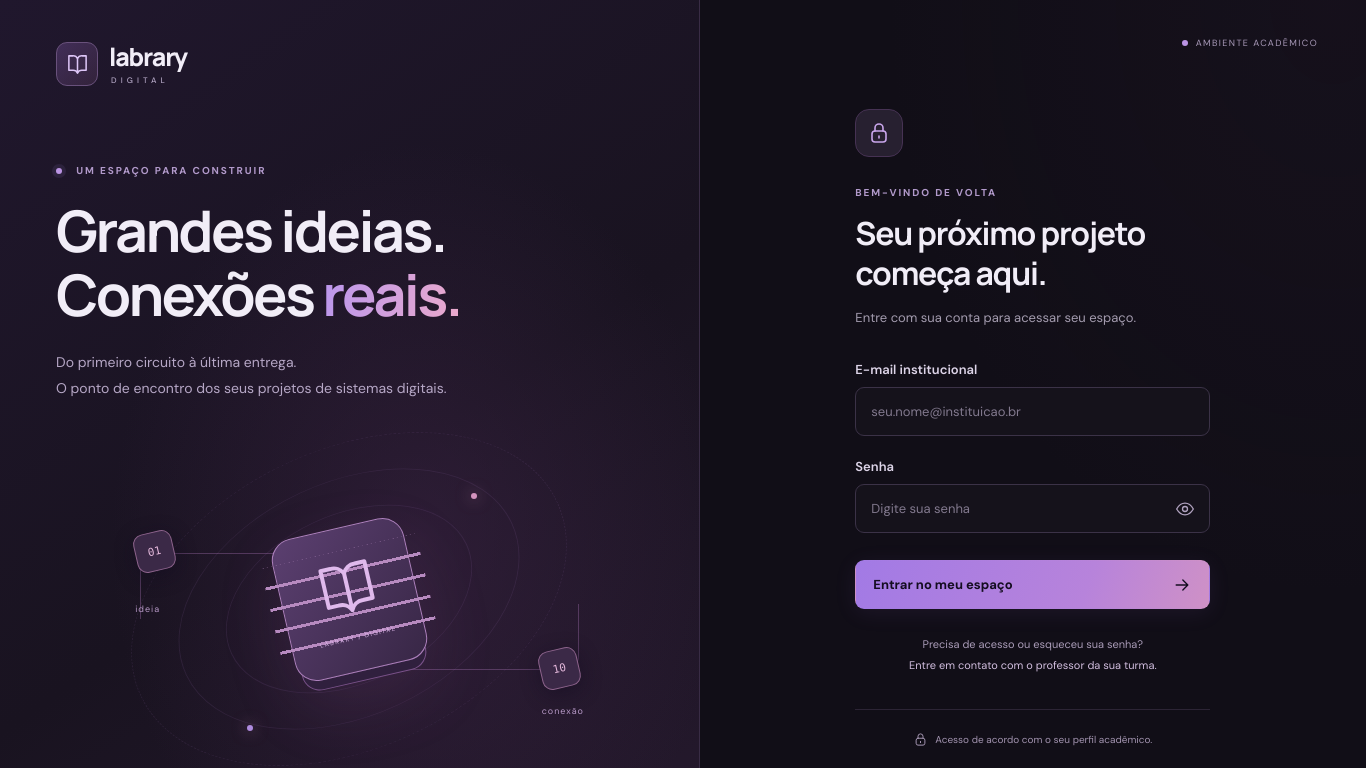
Scenario: HU01: interface › faz login, alterna visibilidade da senha e sai da conta
This screenshot has width=1366, height=768.
In the field labelled "E-mail institucional": (1033, 412) [855, 387, 1210, 436], type "aluno@labrary.local"
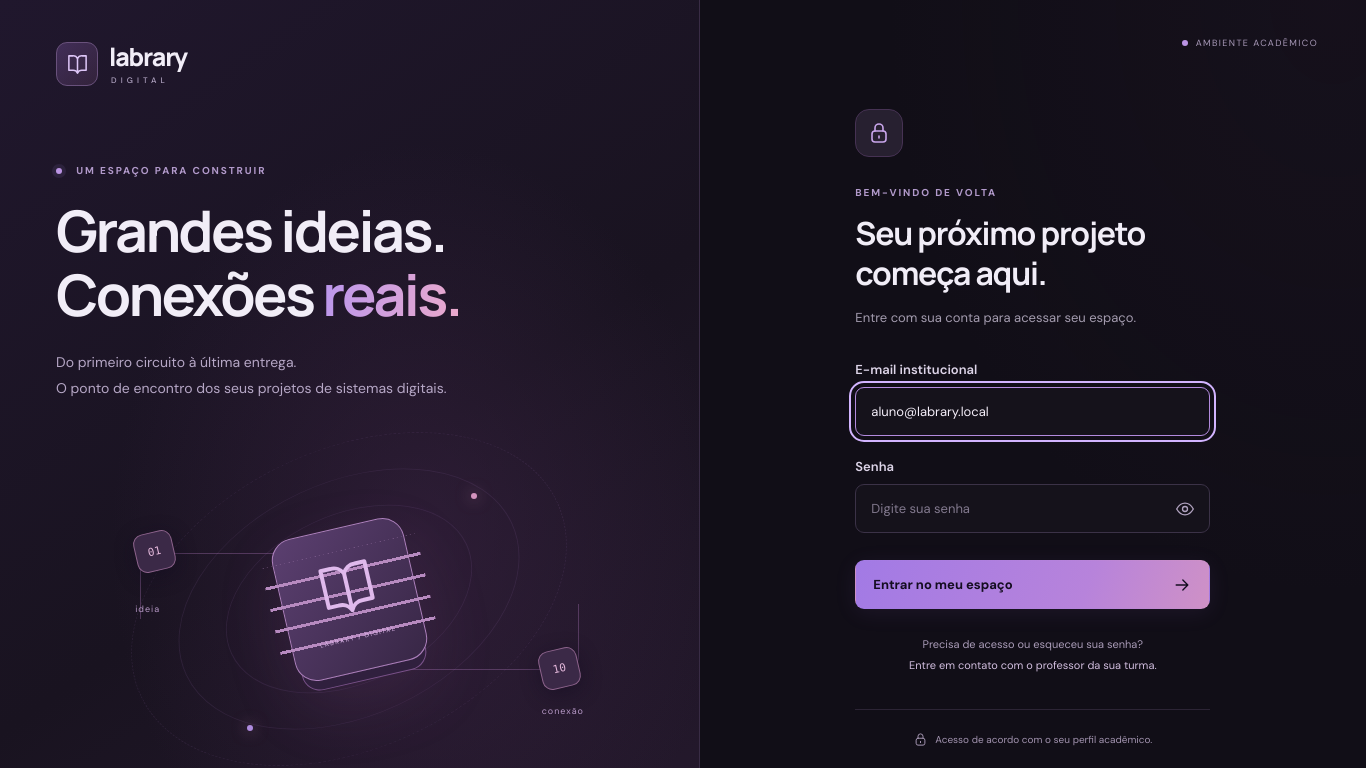
In the password field labelled "Senha": (1033, 509) [855, 484, 1210, 533], type "Senha123!"
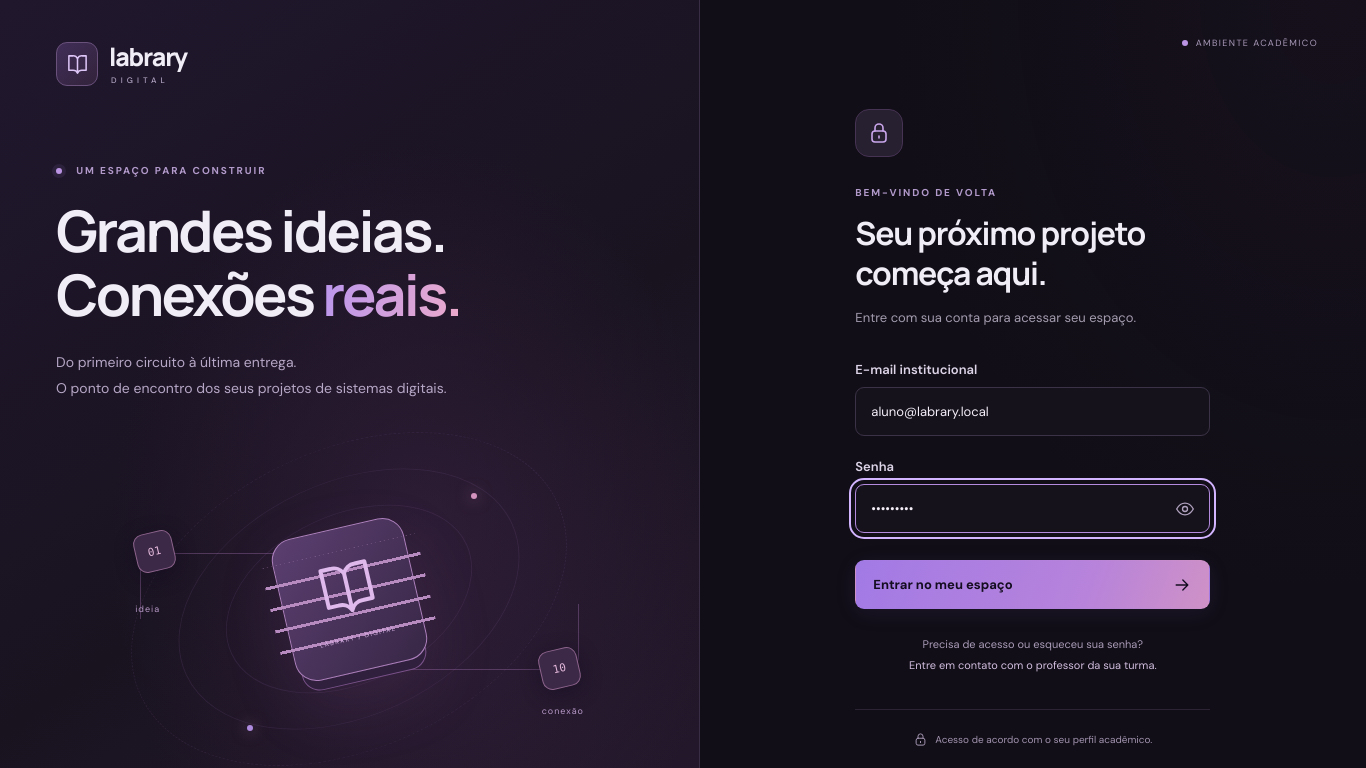
Click the button named "Mostrar senha": (1185, 509) [1163, 486, 1207, 532]
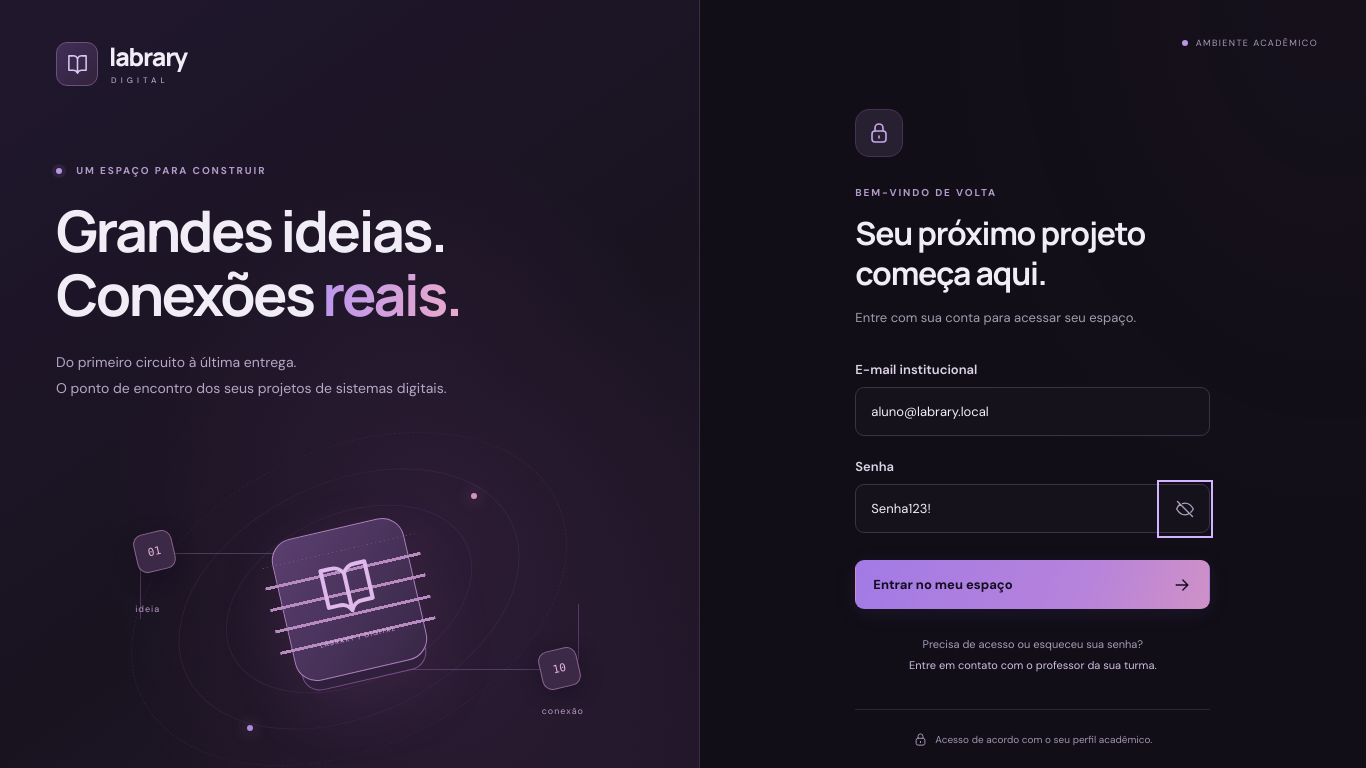
Click the button named "Ocultar senha": (1185, 509) [1163, 486, 1207, 532]
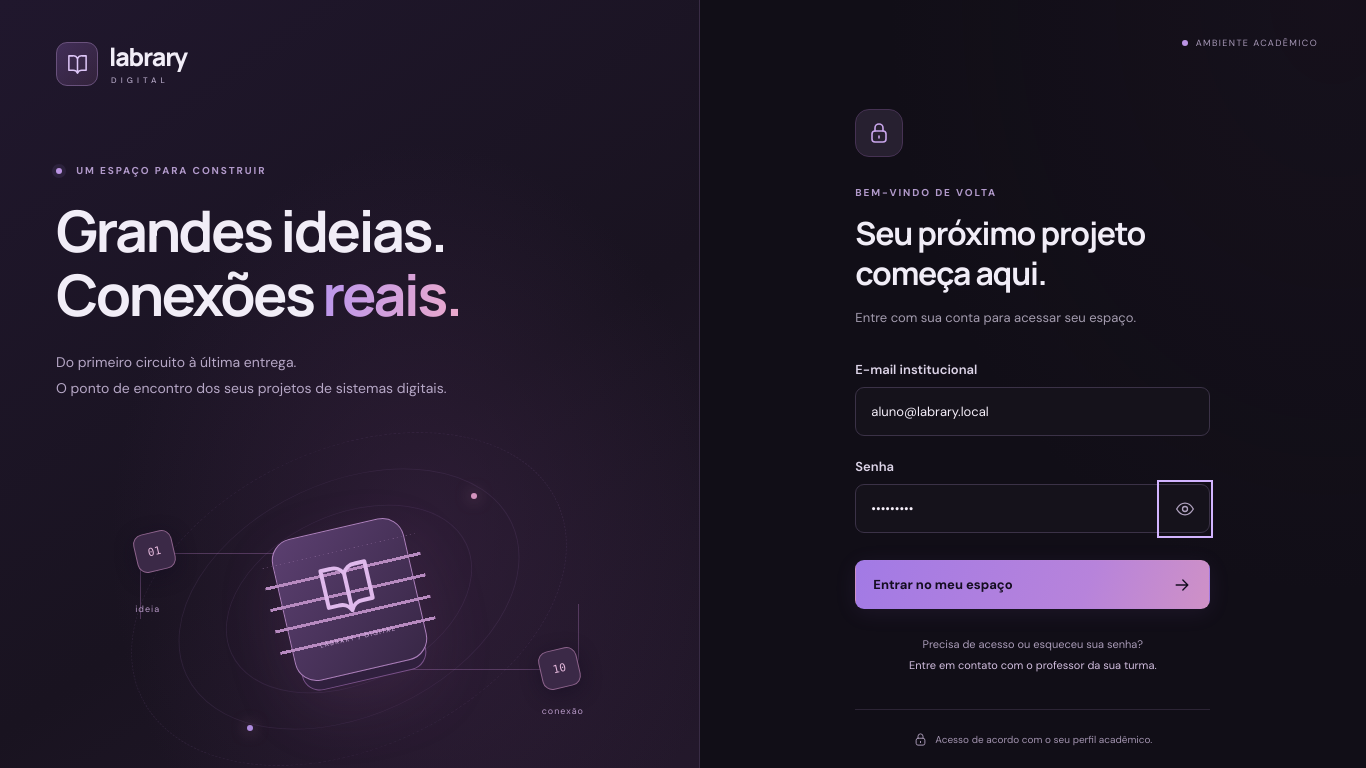
Click the button "Entrar no meu espaço": (943, 585) [855, 560, 1210, 609]
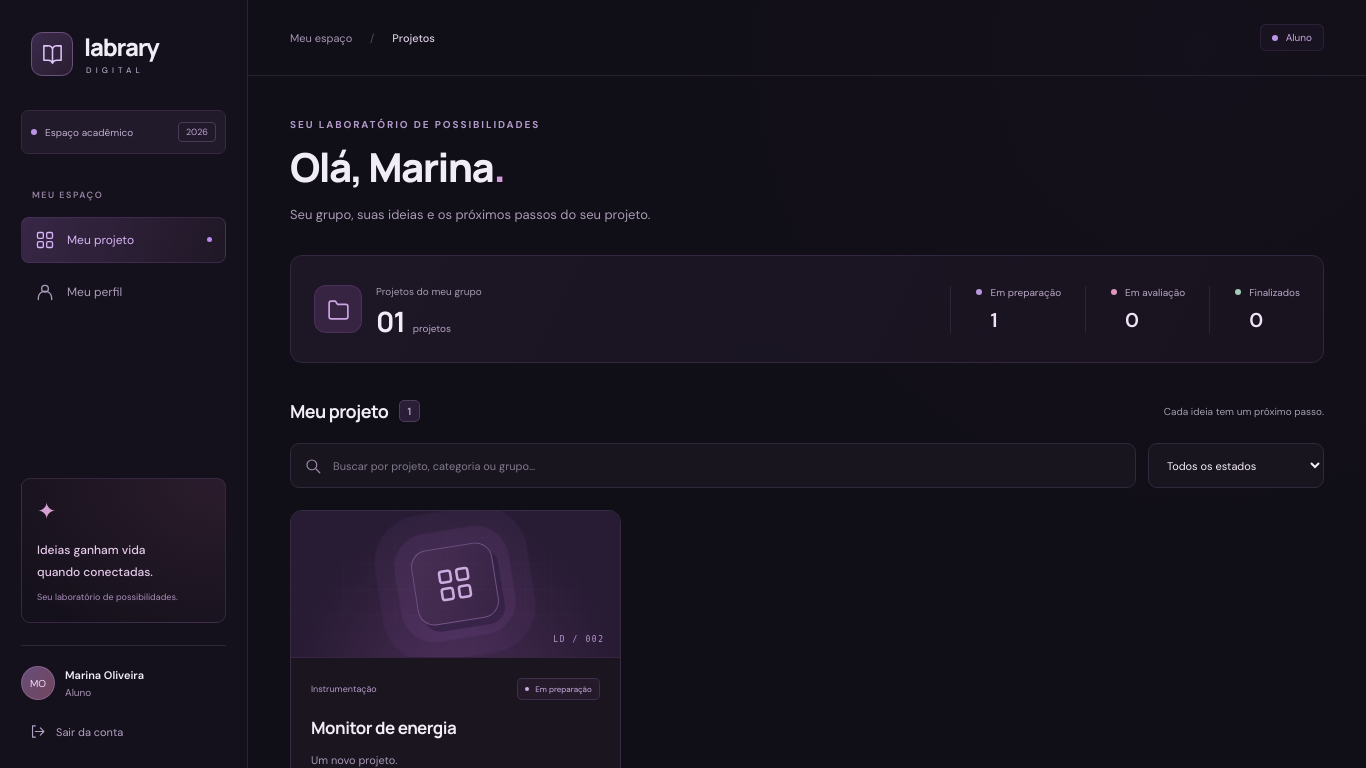
Check: the heading "Olá, Marina." is shown, box [290, 139, 504, 194]
Click the button "Sair da conta": (76, 732) [21, 713, 131, 750]
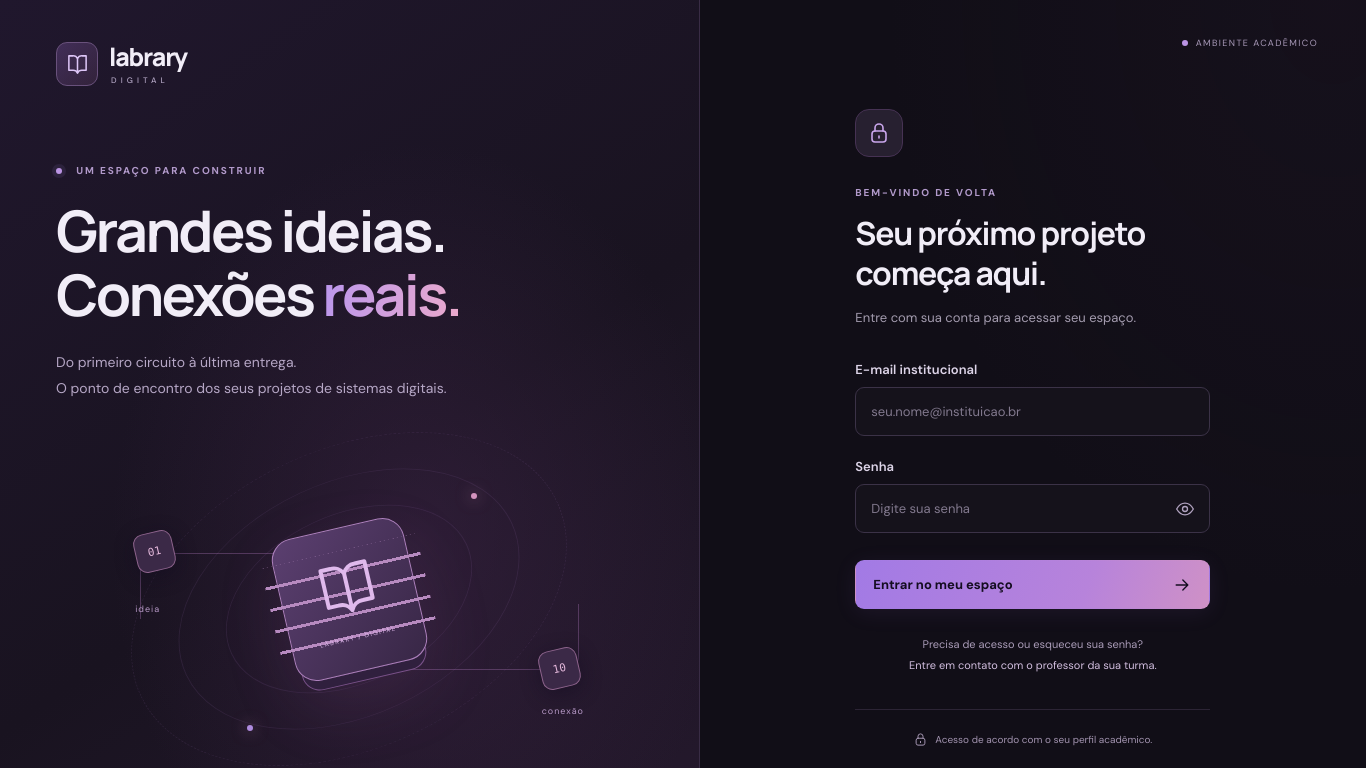
Check: the button "Entrar no meu espaço" is shown, box [855, 560, 1210, 609]
Check: the link "Monitor de energia" is gone
